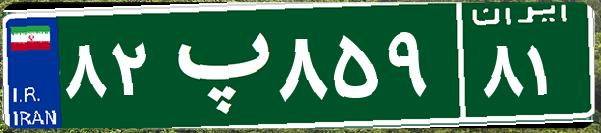1: (525, 38, 570, 115)
2: (110, 28, 158, 105)
5: (330, 28, 385, 110)
8: (273, 28, 330, 110), (57, 26, 110, 107), (475, 38, 525, 113)
9: (385, 28, 445, 110)
پ: (158, 15, 273, 115)
